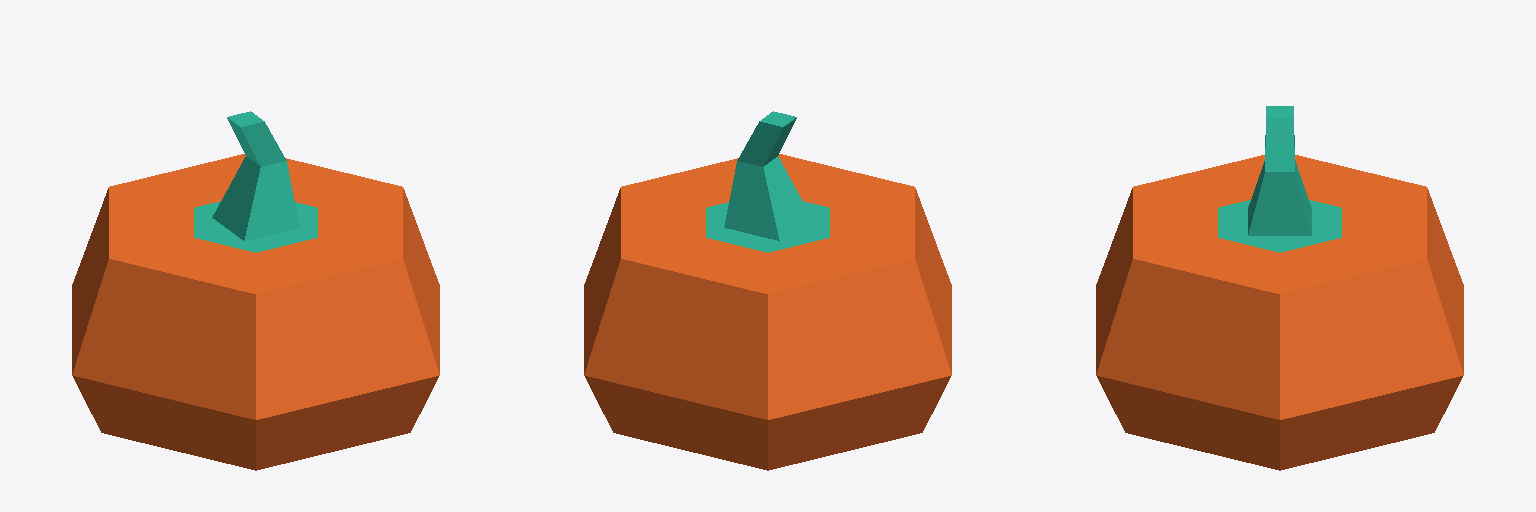
File: pumpkin.obj
3 views of the same model, side by side, from view 1: azimuth 30°, elevation 25°; view 2: azimuth 150°, elevation 25°; view 3: azimuth 270°, elevation 25° (orthographic).
Visible parts, largest first — view 1: pumpkin; view 2: pumpkin; view 3: pumpkin.
Boxes of the visible parts, <box> form: pumpkin: <box>72,111,439,470</box>; pumpkin: <box>584,111,951,470</box>; pumpkin: <box>1096,106,1463,470</box>.
Bounding box in the file's own units: 0.357 × 0.2583 × 0.3092.